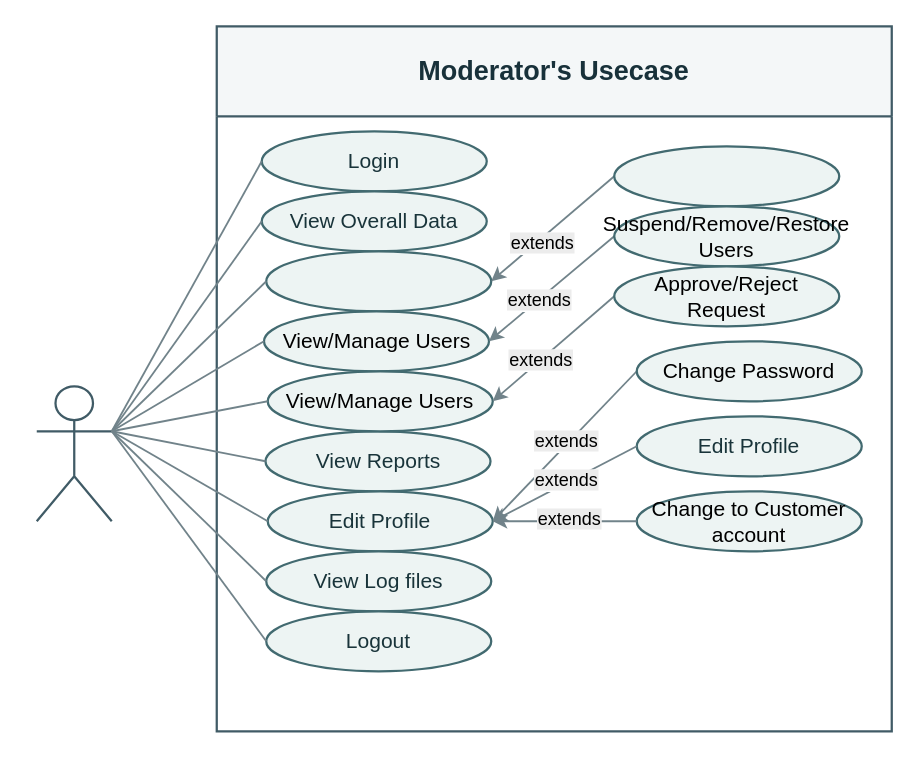
Some shapes in this 920 by 759 pixel diagram are drawn without their labels. The shapes that lost their labels are listed below. From the top down, each one's box as (x1, y1, x2, y2) in pixels, then its label:
(612, 144, 840, 207): Suspend/Remove/Restore HQ
(264, 249, 492, 312): View/Manage HQ
(35, 384, 112, 522): Moderator
